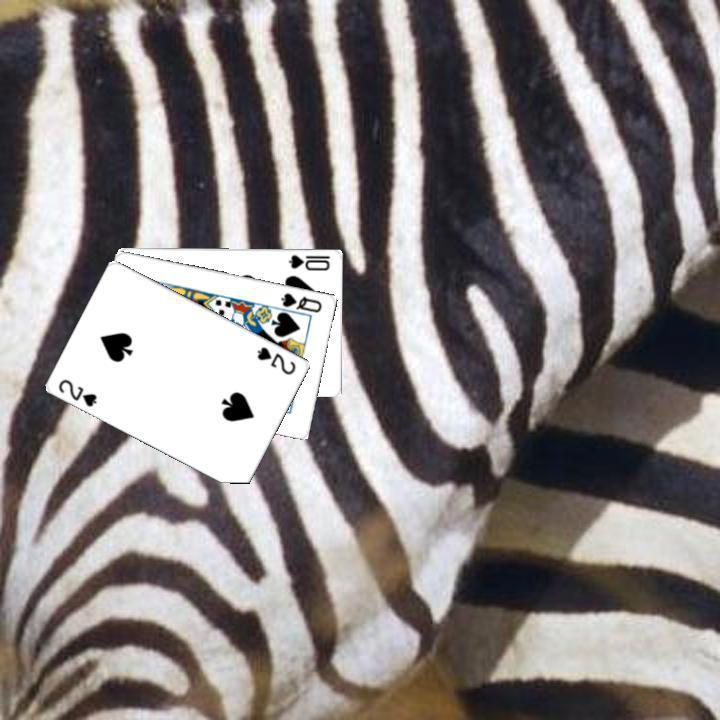10: (284, 250, 332, 272)
2: (253, 342, 298, 377), (54, 375, 99, 409)
Q: (277, 288, 324, 314)
